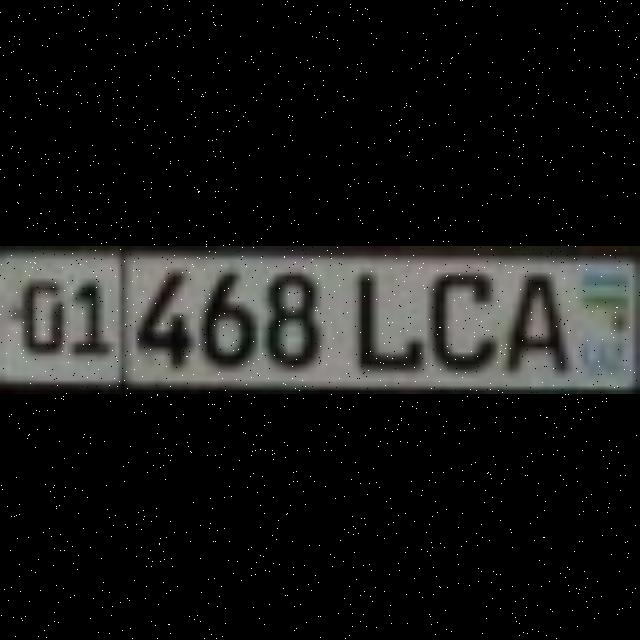0: (11, 269, 57, 349)
1: (63, 274, 103, 344)
4: (126, 264, 182, 360)
6: (188, 264, 246, 360)
8: (258, 264, 308, 360)
A: (498, 264, 560, 366)
C: (422, 264, 492, 366)
L: (348, 264, 418, 366)
